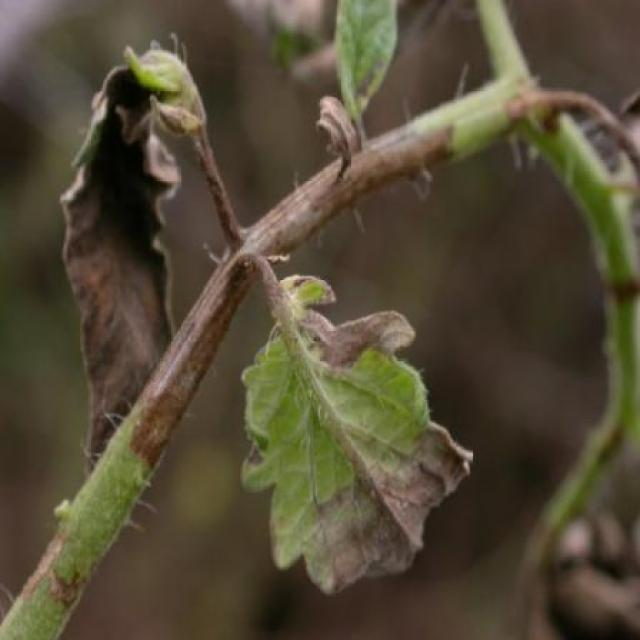Late Blight: (231, 280, 473, 607)
